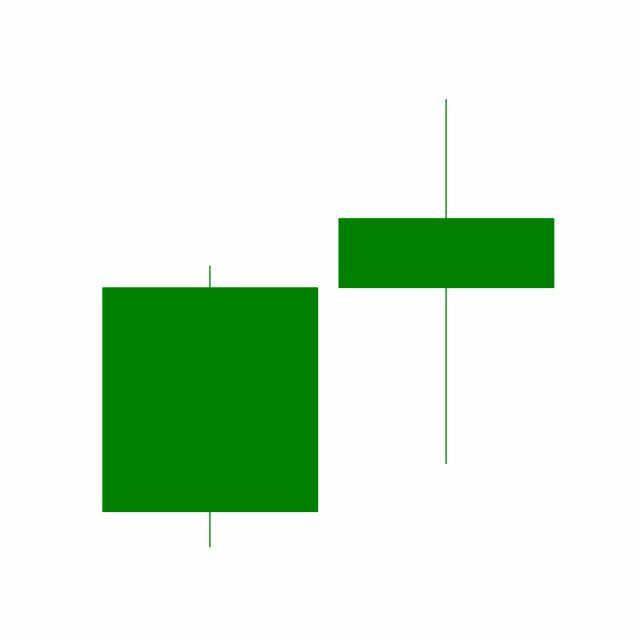Spinning Top: (328, 96, 566, 470)
